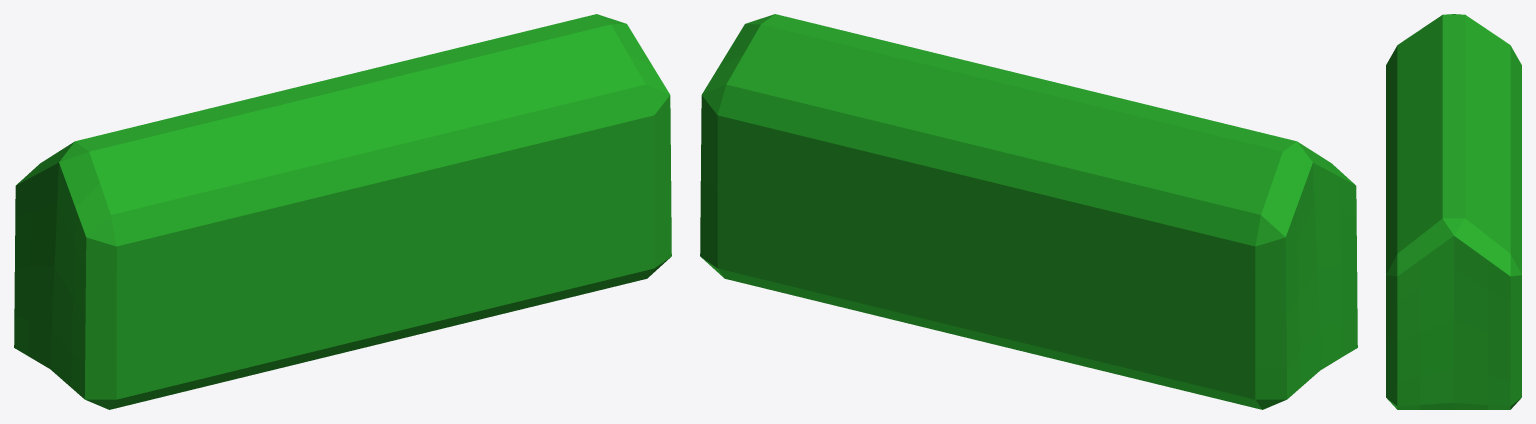
File: greenwallthingie.fbx
3 views of the same model, side by side, from view 1: azimuth 30°, elevation 25°; view 2: azimuth 150°, elevation 25°; view 3: azimuth 270°, elevation 25° (orthographic). The views are drawn at different scales.
Parts seen in each view (by area): view 1: Cube; view 2: Cube; view 3: Cube.
Boxes of the visible parts, x1,y1,x2,y2 form: Cube: (14, 14, 671, 409); Cube: (700, 14, 1357, 409); Cube: (1386, 14, 1521, 409).
Bounding box in the file's own units: 798 × 306 × 200.
